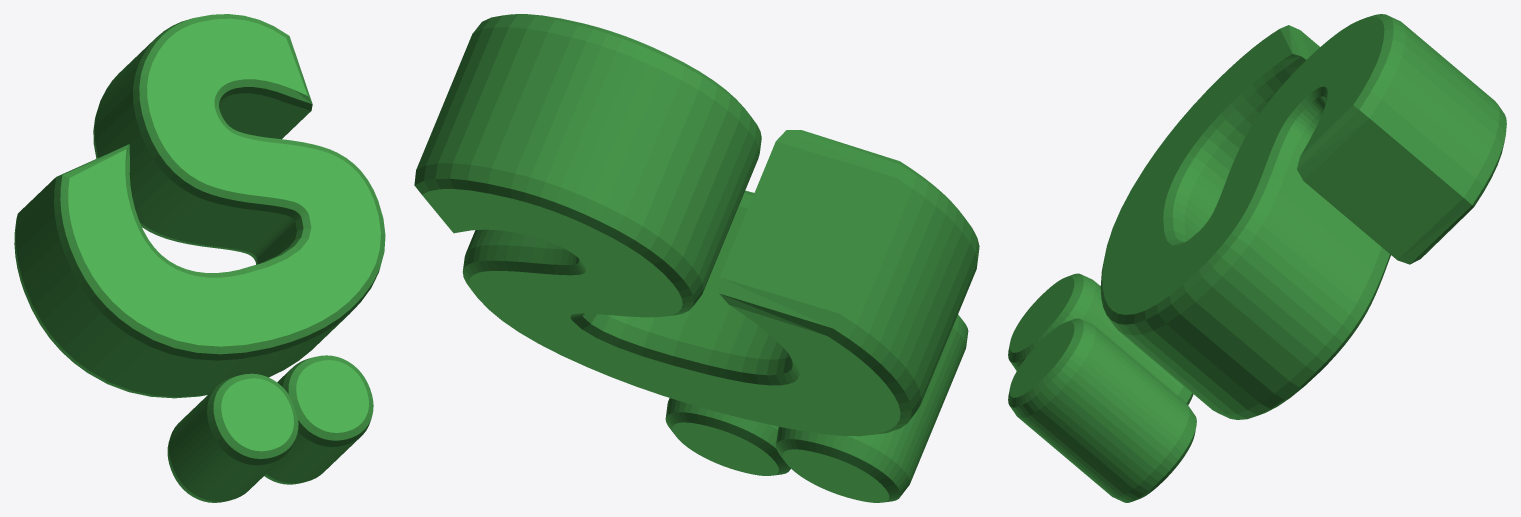
3 views of the same model, side by side, from view 1: azimuth 30°, elevation 25°; view 2: azimuth 150°, elevation 25°; view 3: azimuth 270°, elevation 25° (orthographic). The views are drawn at different scales.
Visible parts, largest first — view 1: letter; view 2: letter; view 3: letter.
Part boxes in pixels (left/top/right/bottom): letter: left=14, top=14, right=385, bottom=502; letter: left=414, top=14, right=979, bottom=502; letter: left=1008, top=14, right=1506, bottom=502.
Size of the model in its own units: 0.9381 by 1.13 by 1.09.
